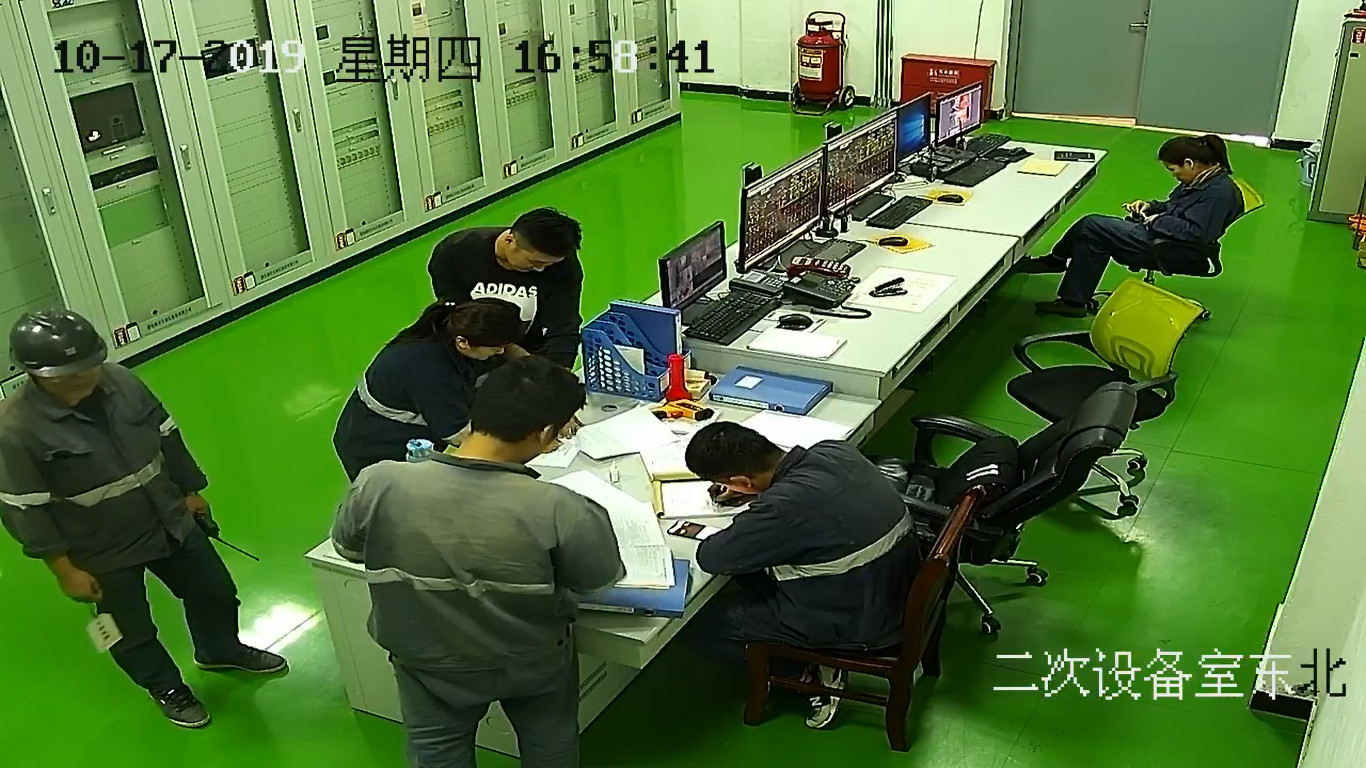helmet: (6, 308, 107, 377)
